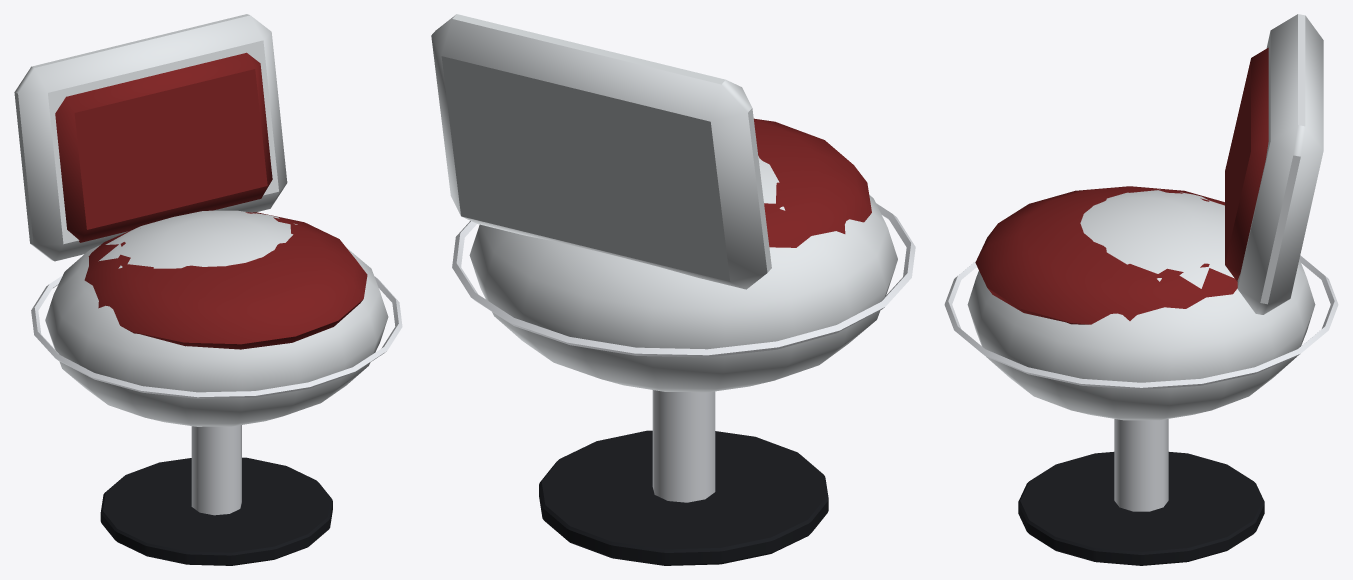
Rendered from couch_lounge_armchair.glb.
The picture shows the model from 3 angles, left to right: view 1: azimuth 30°, elevation 25°; view 2: azimuth 150°, elevation 25°; view 3: azimuth 270°, elevation 25°; orthographic projection. The views are drawn at different scales.
Visible parts, largest first — view 1: couch_lounge_armchair; view 2: couch_lounge_armchair; view 3: couch_lounge_armchair.
Boxes of the visible parts, left/top/right/bottom form: couch_lounge_armchair: left=14, top=14, right=402, bottom=565; couch_lounge_armchair: left=431, top=14, right=915, bottom=565; couch_lounge_armchair: left=944, top=14, right=1338, bottom=565.
Bounding box in the file's own units: 1.02 × 1.27 × 1.02.
